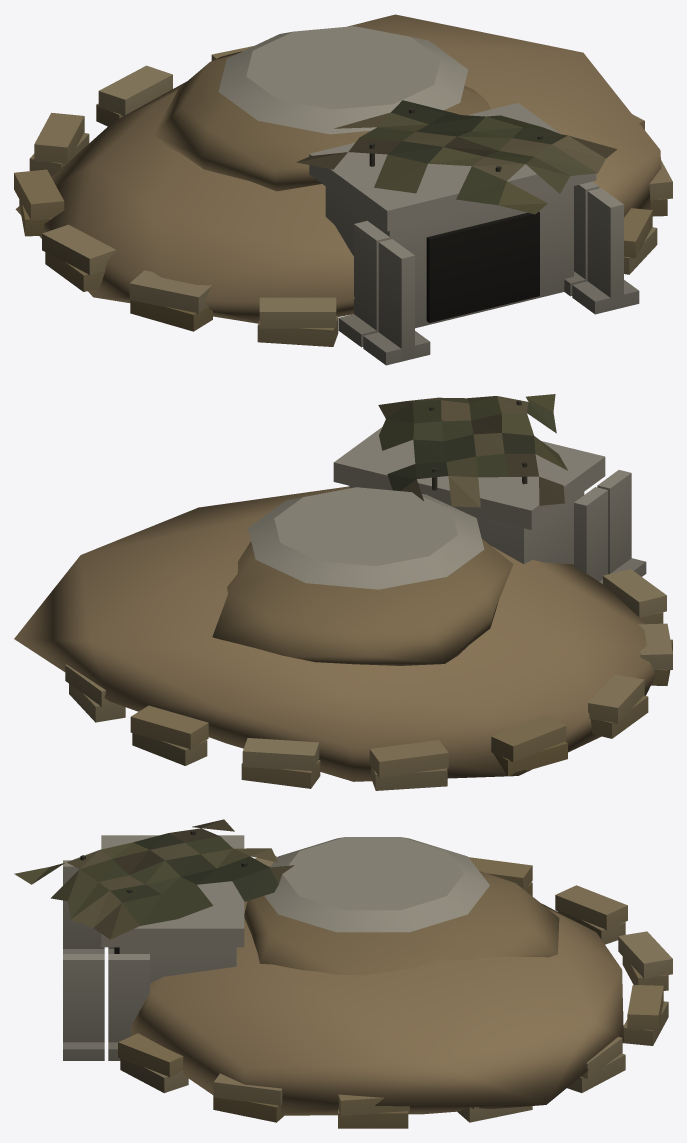
File: m_tunnel_c0eb76d0.glb
3 renders of one model, top to bottom at view 1: azimuth 30°, elevation 25°; view 2: azimuth 150°, elevation 25°; view 3: azimuth 270°, elevation 25°, orthographic. The views are drawn at different scales.
Visible parts, largest first — view 1: mesh; view 2: mesh; view 3: mesh.
Part boxes in pixels (x1,y1,x2,y2): mesh: [14, 14, 672, 365]; mesh: [14, 394, 672, 790]; mesh: [14, 819, 672, 1128].
Bounding box in the file's own units: 46.18 × 14.06 × 50.68.
